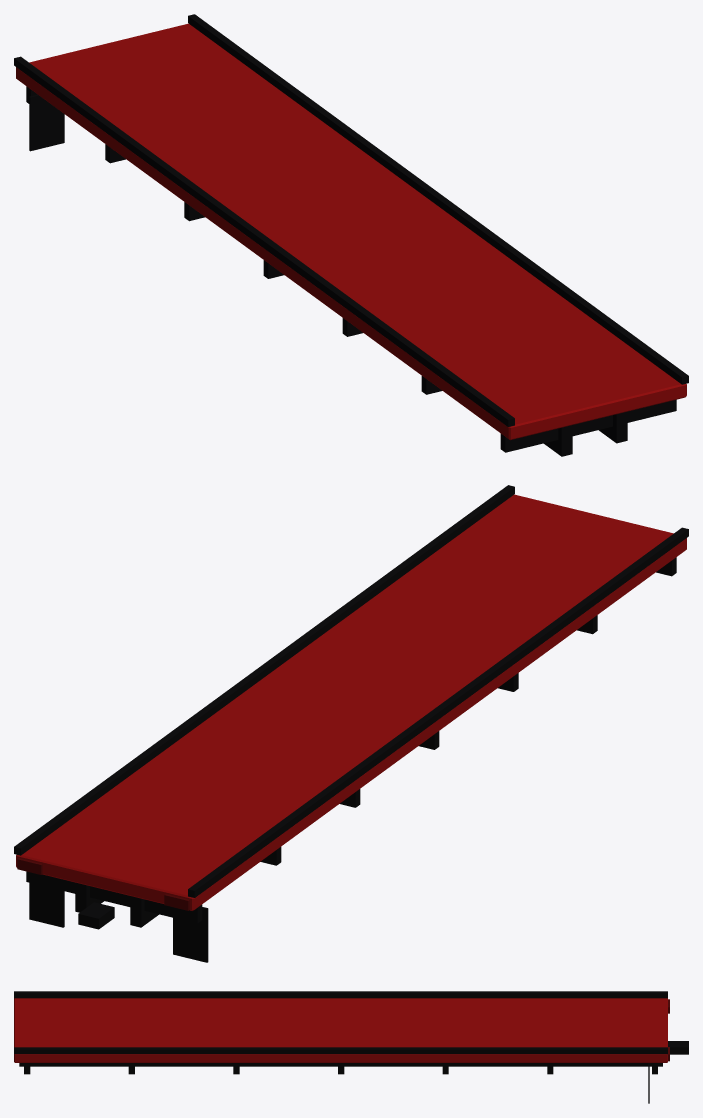
Rendered from Semi Trailer Open.obj.
The picture shows the model from 3 angles, top to bottom: view 1: azimuth 30°, elevation 25°; view 2: azimuth 150°, elevation 25°; view 3: azimuth 270°, elevation 25°; orthographic projection. The views are drawn at different scales.
Visible parts, largest first — view 1: Body, Trim; view 2: Body, Trim; view 3: Body, Trim.
Part boxes in pixels (bbox=[...]): Body: bbox=[16, 23, 686, 440]; Trim: bbox=[14, 14, 688, 456]; Body: bbox=[16, 494, 686, 910]; Trim: bbox=[14, 485, 688, 962]; Body: bbox=[14, 998, 667, 1062]; Trim: bbox=[14, 991, 688, 1103].
Bounding box in the file's own units: 2.64 × 1.15 × 12.9.
